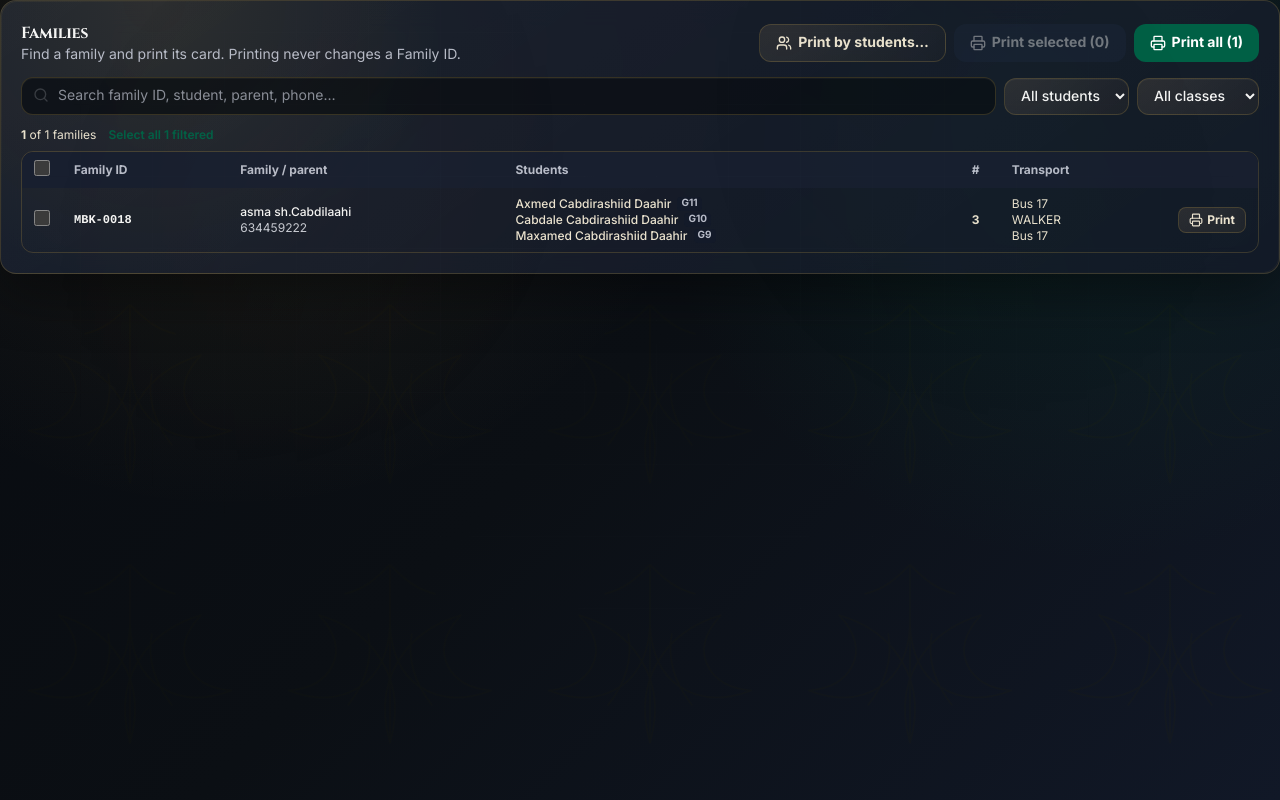
choosing Walkers in the real dropdown › shows Cabdale and HIDES the bus-riding siblings
This screenshot has width=1280, height=800.
Select "Walkers" in the 1st dropdown at (1066, 96), box [1004,78,1129,114]
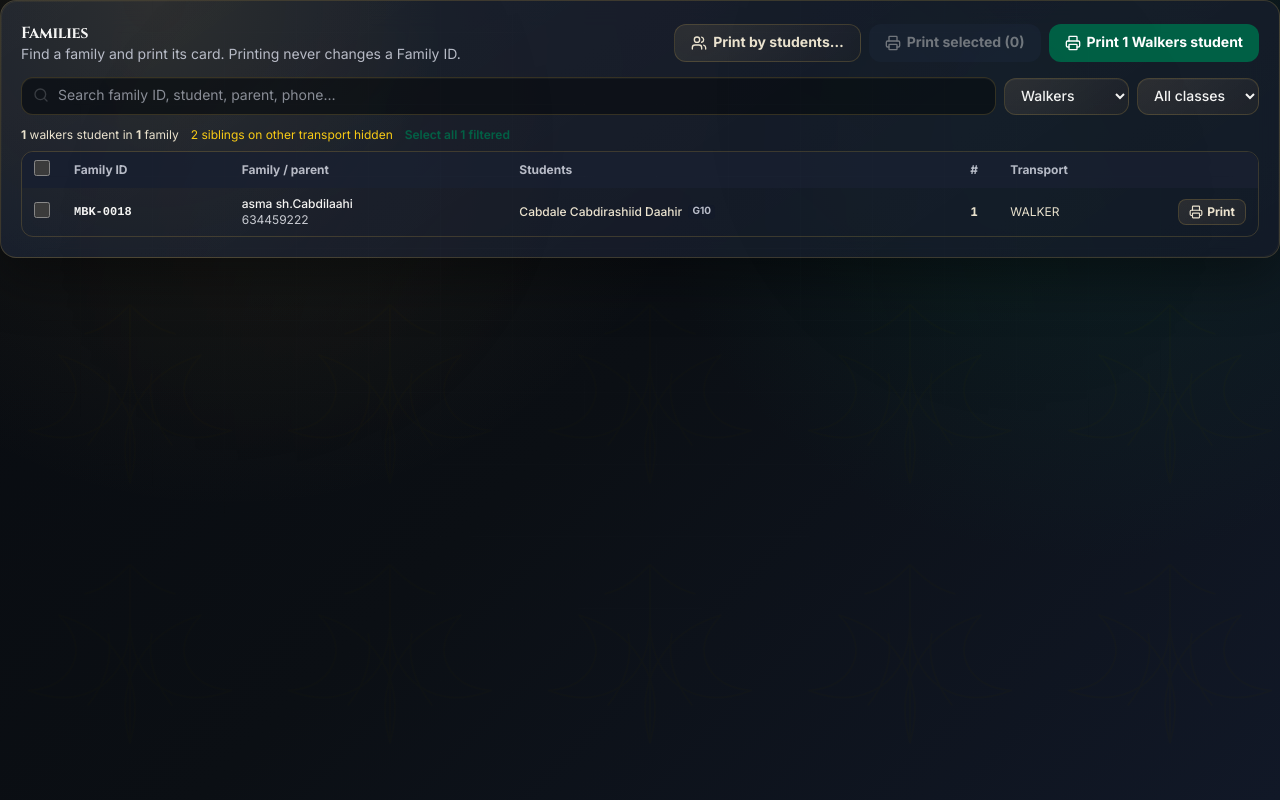
expect the text "Cabdale Cabdirashiid Daahir" is shown: met, box [519,204,682,220]
expect the text "Axmed Cabdirashiid Daahir" is gone: met
expect the text "Maxamed Cabdirashiid Daahir" is gone: met
